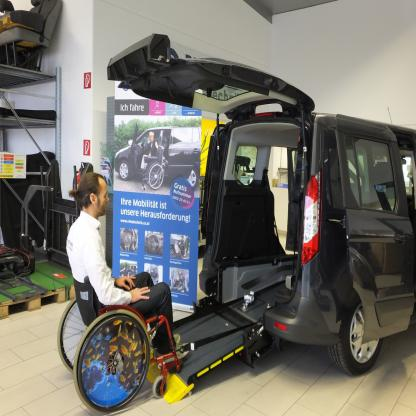wheelchair: (54, 170, 188, 414)
